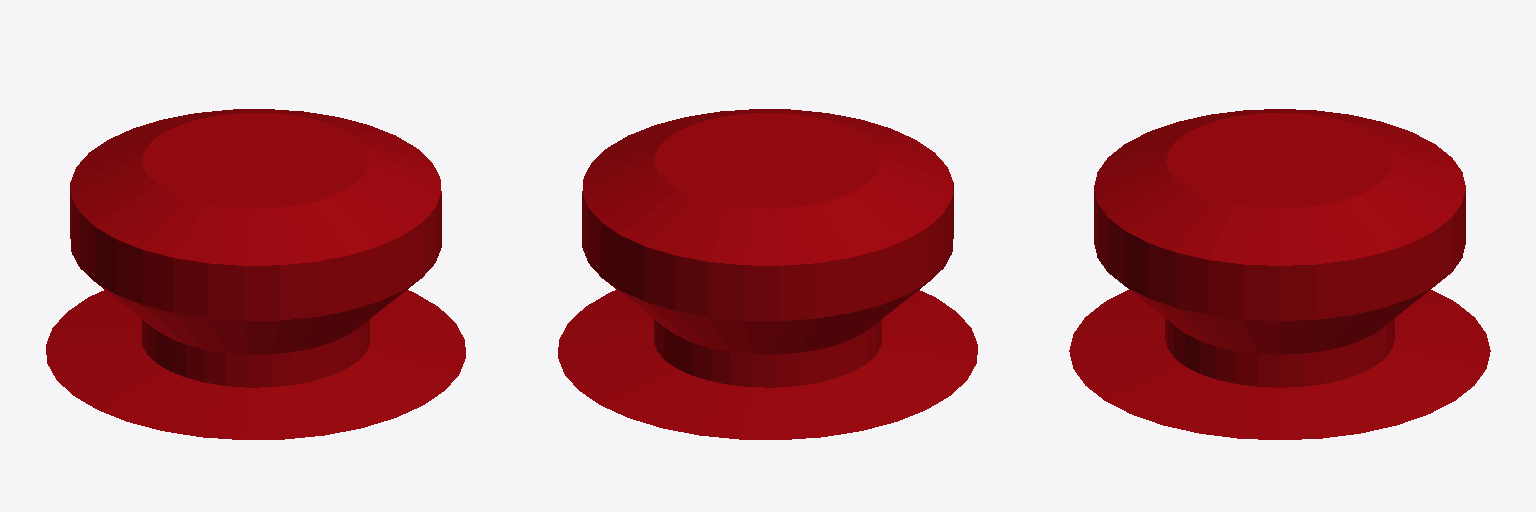
File: 1BulgeVaseRed.obj
3 views of the same model, side by side, from view 1: azimuth 30°, elevation 25°; view 2: azimuth 150°, elevation 25°; view 3: azimuth 270°, elevation 25° (orthographic).
Visible parts, largest first — view 1: Cylinder; view 2: Cylinder; view 3: Cylinder.
Part boxes in pixels (x1,y1,x2,y2): Cylinder: (46, 109, 465, 439); Cylinder: (558, 109, 977, 439); Cylinder: (1069, 109, 1490, 439).
Bounding box in the file's own units: 0.5907 × 0.2949 × 0.5907.